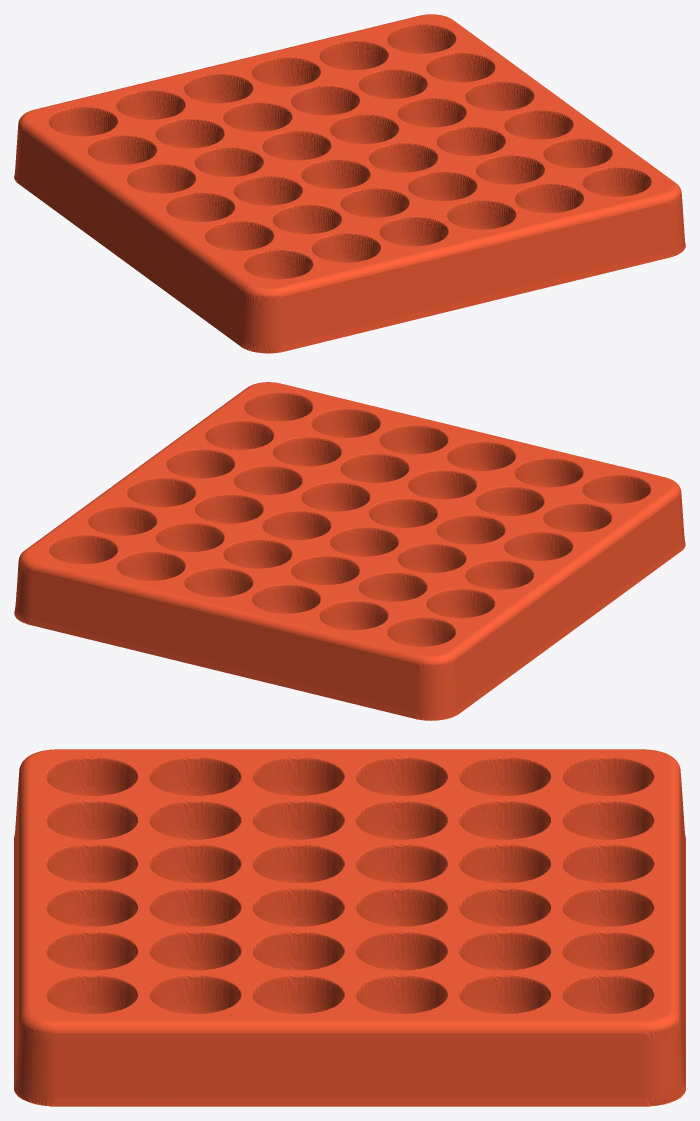
File: mold.glb
3 renders of one model, top to bottom at view 1: azimuth 30°, elevation 25°; view 2: azimuth 150°, elevation 25°; view 3: azimuth 270°, elevation 25°, orthographic. The views are drawn at different scales.
Visible parts, largest first — view 1: geometry_0; view 2: geometry_0; view 3: geometry_0.
Boxes of the visible parts, box(x1,y1,x2,y2) form: geometry_0: box(14, 14, 685, 353); geometry_0: box(14, 382, 685, 720); geometry_0: box(14, 749, 685, 1106).
Size of the model in its own units: 0.1447 by 0.0188 by 0.1447.
